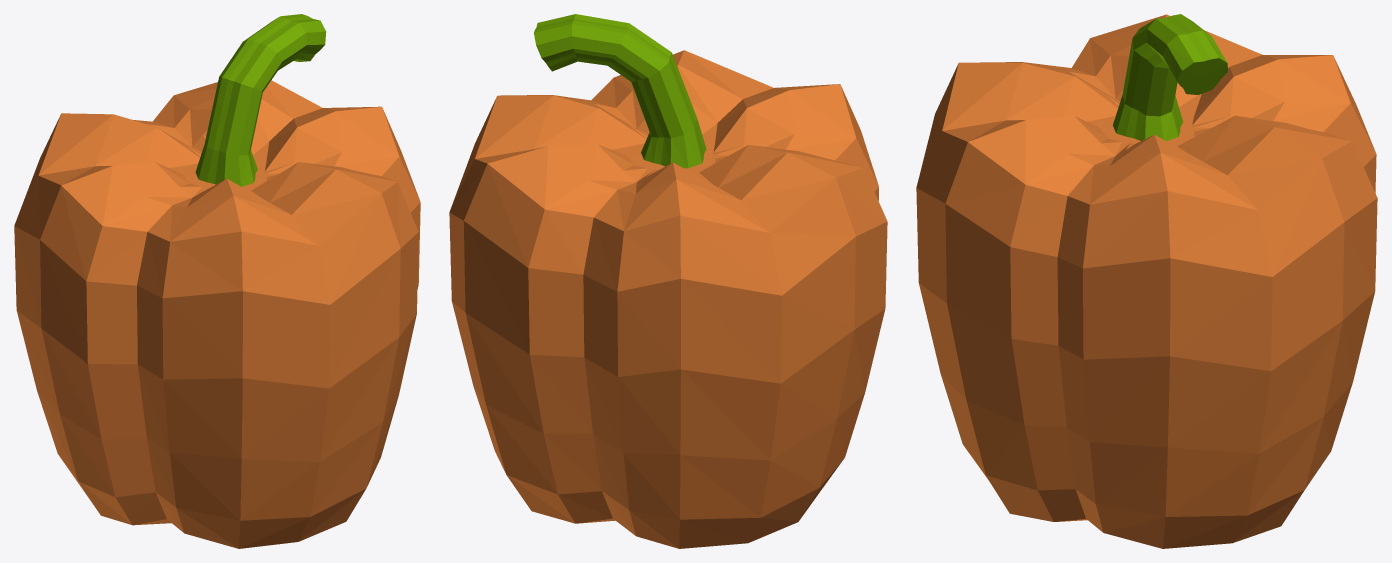
File: pepper.glb
3 views of the same model, side by side, from view 1: azimuth 30°, elevation 25°; view 2: azimuth 150°, elevation 25°; view 3: azimuth 270°, elevation 25° (orthographic). The views are drawn at different scales.
Parts seen in each view (by area): view 1: Node; view 2: Node; view 3: Node.
Part boxes in pixels (<box>): Node: <box>14,14,420,548</box>; Node: <box>449,14,887,548</box>; Node: <box>916,14,1377,548</box>.
Bounding box in the file's own units: 2.45 × 2.91 × 2.4.
